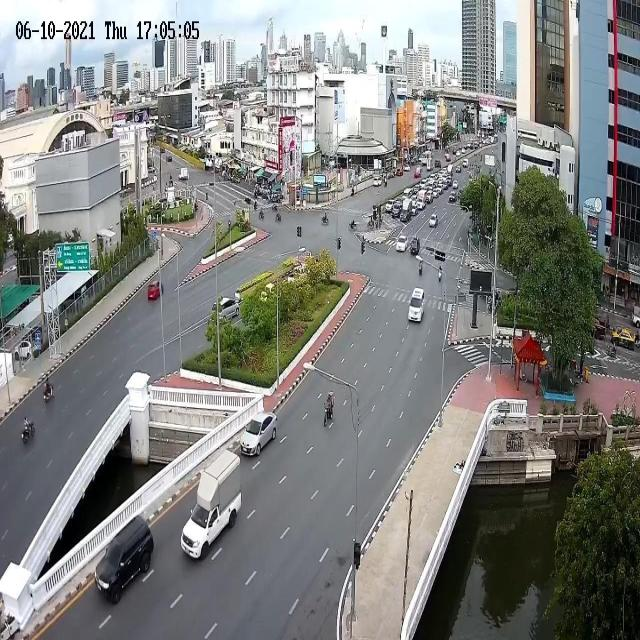Car: (95, 514, 157, 610), (240, 409, 278, 459), (215, 290, 242, 327), (257, 280, 278, 307), (147, 274, 163, 304), (410, 236, 420, 259), (393, 238, 402, 262), (428, 210, 438, 229), (413, 162, 422, 178), (447, 192, 457, 206), (450, 179, 460, 192), (393, 201, 399, 217), (384, 200, 391, 212), (413, 202, 416, 217), (413, 202, 416, 212), (456, 165, 460, 171)
Cycle: (322, 384, 342, 437), (39, 368, 58, 412), (20, 413, 36, 446), (321, 207, 331, 224), (276, 206, 282, 228), (418, 260, 425, 277), (258, 206, 265, 223), (438, 260, 442, 287), (271, 197, 277, 213)
Truck: (178, 448, 241, 574), (400, 196, 410, 222)
Van: (399, 279, 432, 333)
